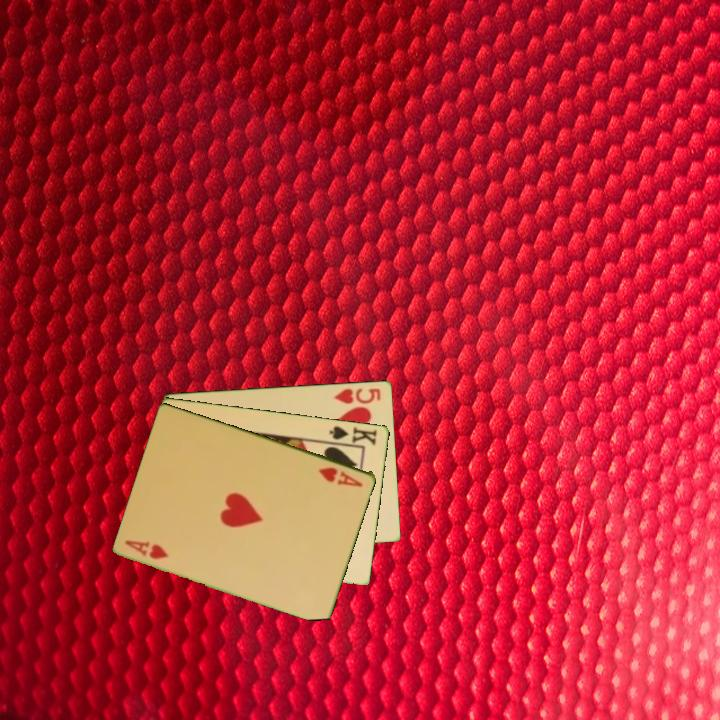5h: (331, 384, 384, 407)
Ah: (316, 463, 366, 489), (122, 536, 172, 562)
Ks: (325, 422, 380, 449)
